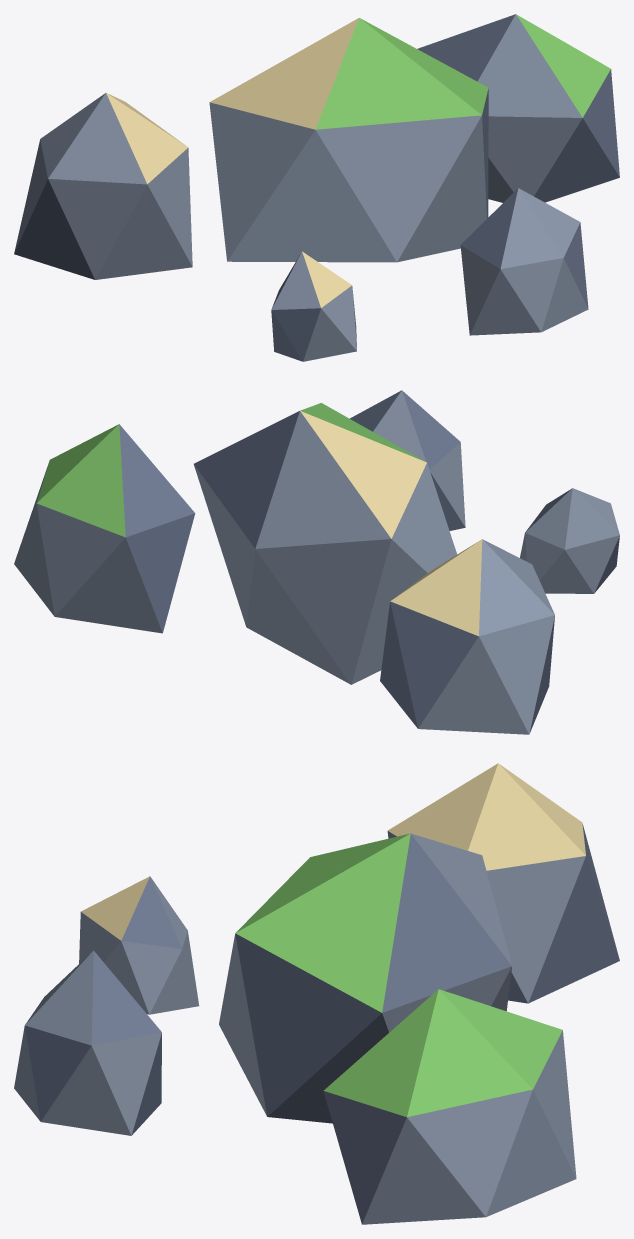
Rendered from rock_cluster_reef.fbx.
3 renders of one model, top to bottom at view 1: azimuth 30°, elevation 25°; view 2: azimuth 150°, elevation 25°; view 3: azimuth 270°, elevation 25°, orthographic. The views are drawn at different scales.
Parts seen in each view (by area): view 1: rock_cluster_reef; view 2: rock_cluster_reef; view 3: rock_cluster_reef.
Boxes of the visible parts, x1,y1,x2,y2 form: rock_cluster_reef: [14, 14, 619, 361]; rock_cluster_reef: [14, 390, 619, 734]; rock_cluster_reef: [14, 763, 619, 1224].
Bounding box in the file's own units: 680 × 269 × 543.
1 material, 1 textured.
